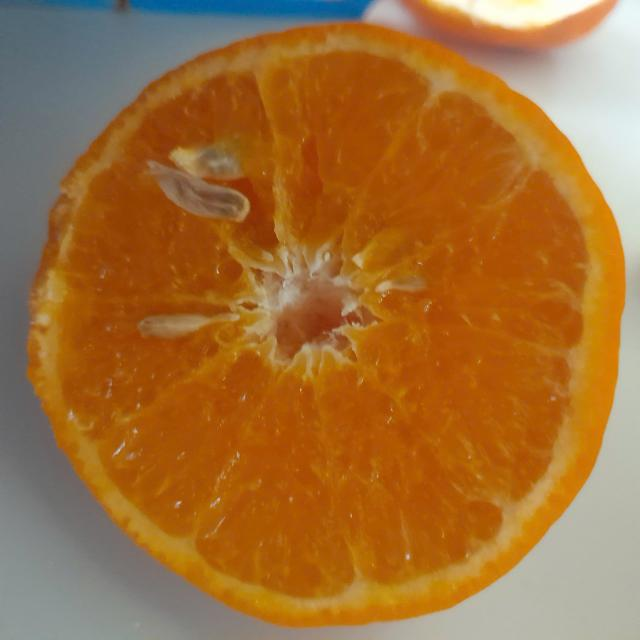Cam: (19, 9, 631, 635)
